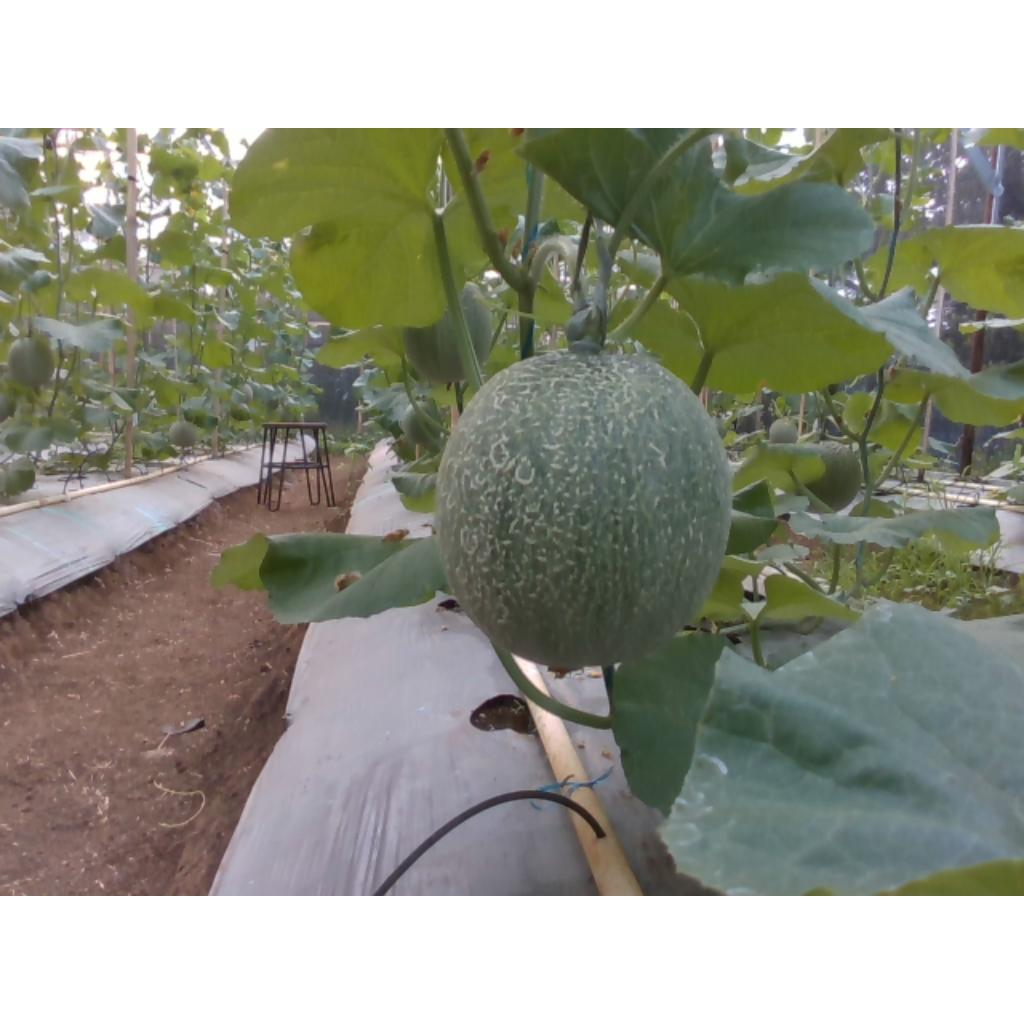melon: (440, 352, 733, 668)
